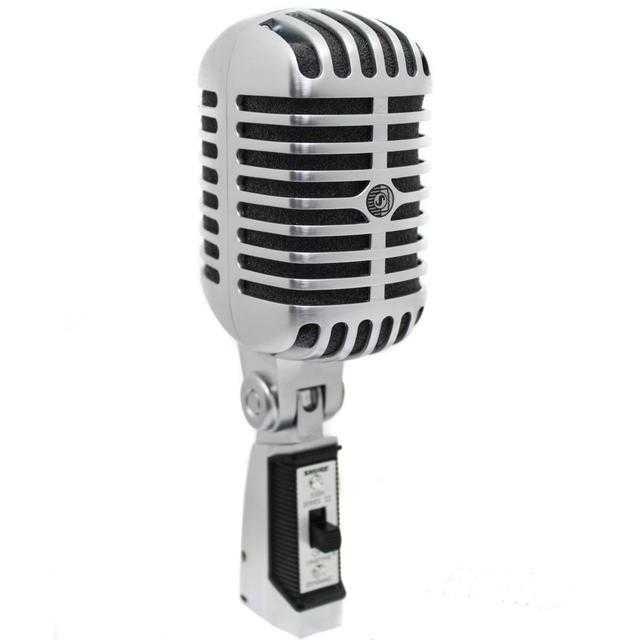microphone: (197, 12, 428, 637)
